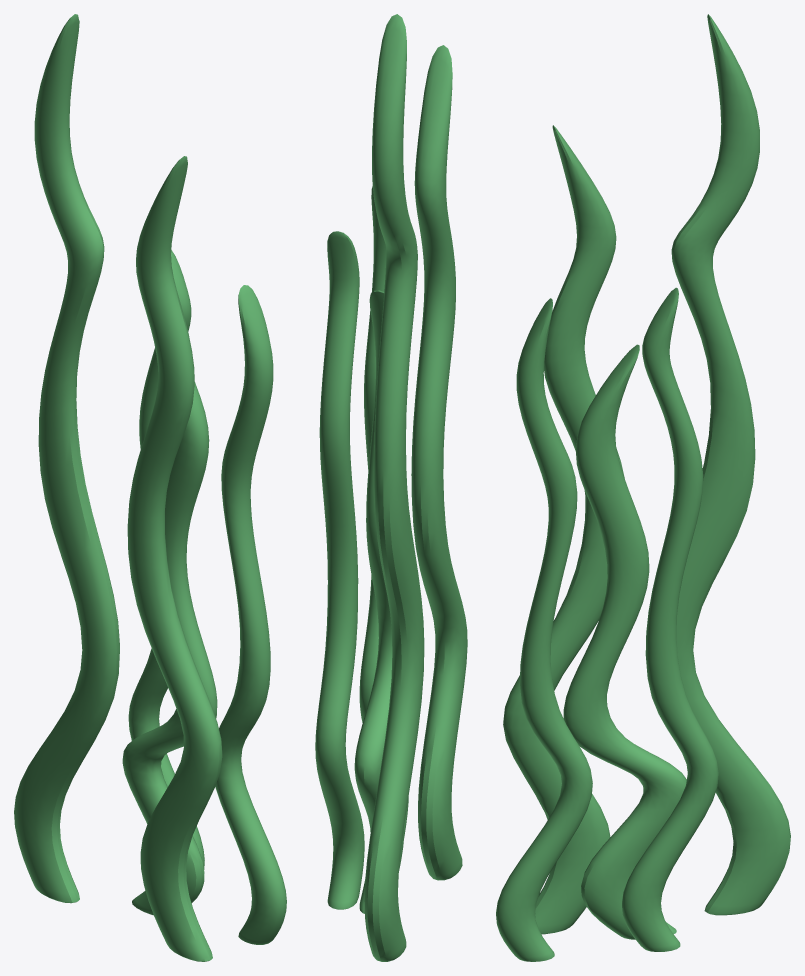
Rendered from Coral2.glb.
The picture shows the model from 3 angles, left to right: view 1: azimuth 30°, elevation 25°; view 2: azimuth 150°, elevation 25°; view 3: azimuth 270°, elevation 25°; orthographic projection. The views are drawn at different scales.
Visible parts, largest first — view 1: Plane.005_Material.001_0; view 2: Plane.005_Material.001_0; view 3: Plane.005_Material.001_0.
Part boxes in pixels (x1,y1,x2,y2): Plane.005_Material.001_0: (14, 14, 286, 961); Plane.005_Material.001_0: (315, 14, 467, 961); Plane.005_Material.001_0: (496, 14, 790, 961).
Size of the model in its own units: 0.094 by 0.5825 by 0.1733.
